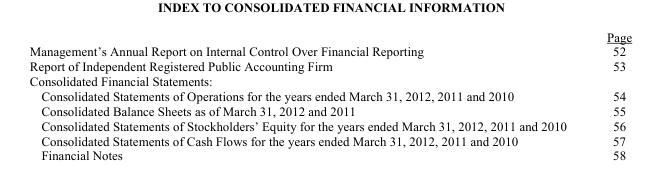table: (28, 29, 631, 162)
table column: (28, 29, 586, 162), (586, 29, 631, 162)
table column header: (28, 29, 631, 43)
table projected row header: (28, 73, 631, 88)
table row: (28, 43, 631, 58), (28, 58, 631, 73), (28, 73, 631, 88), (28, 88, 631, 103), (28, 117, 631, 132), (28, 132, 631, 147), (28, 147, 631, 162), (28, 29, 631, 43), (28, 103, 631, 117)
